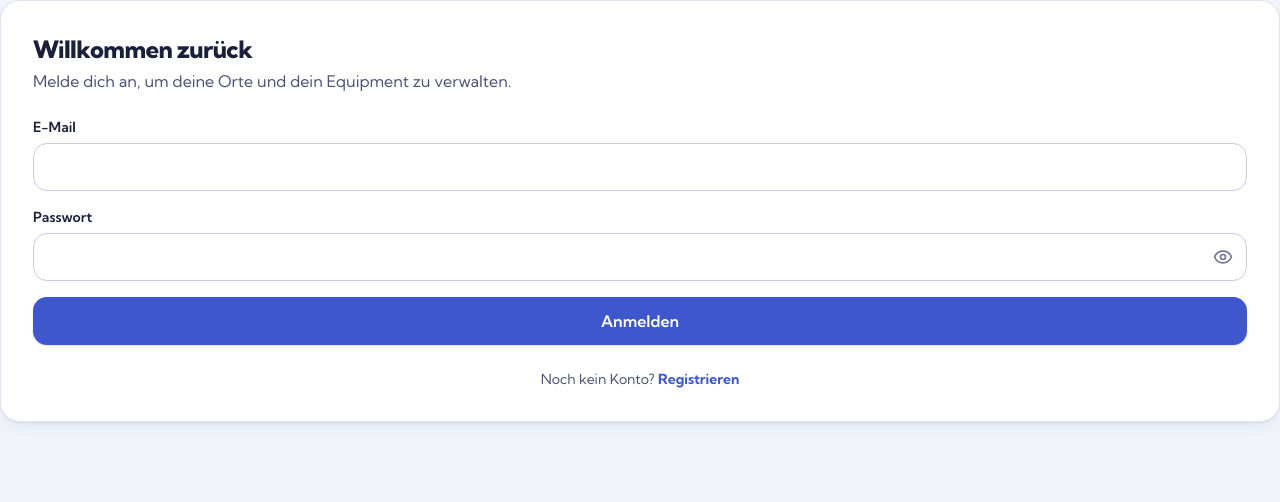
Test: AuthForm (login) › explains rate limiting
In the field labelled "E-Mail": (640, 167) [33, 143, 1247, 191], type "a@b.de"
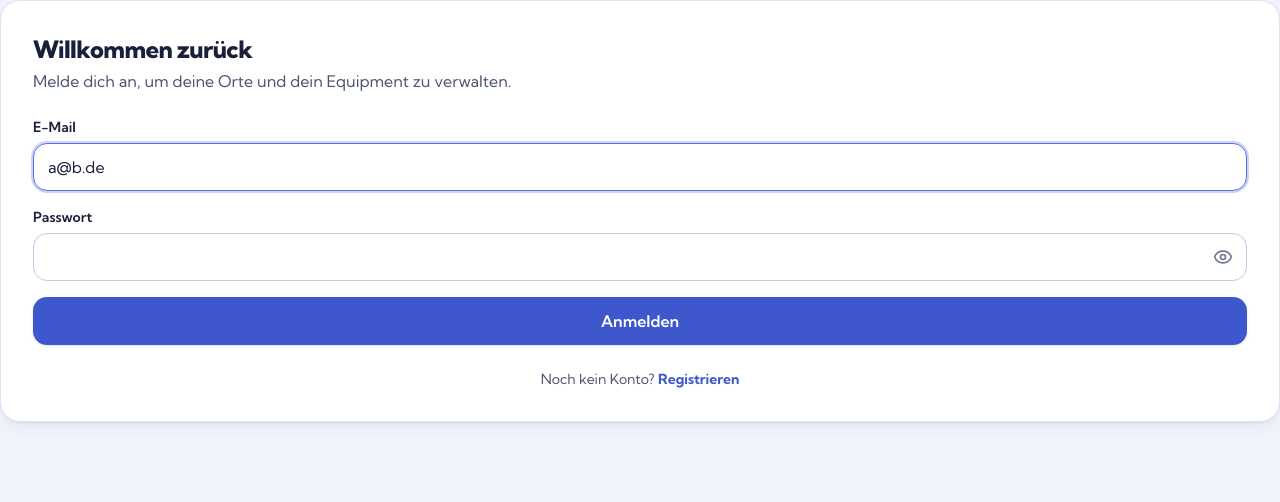
In the password field labelled "Passwort": (640, 257) [33, 233, 1247, 281], type "x"
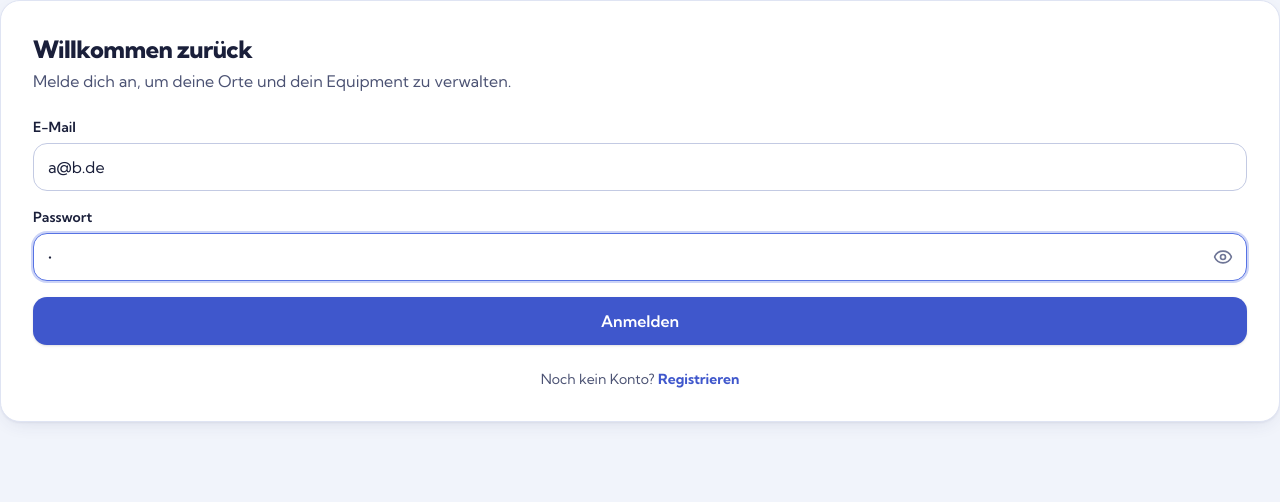
Click the button "Anmelden": click(640, 321) [33, 297, 1247, 345]
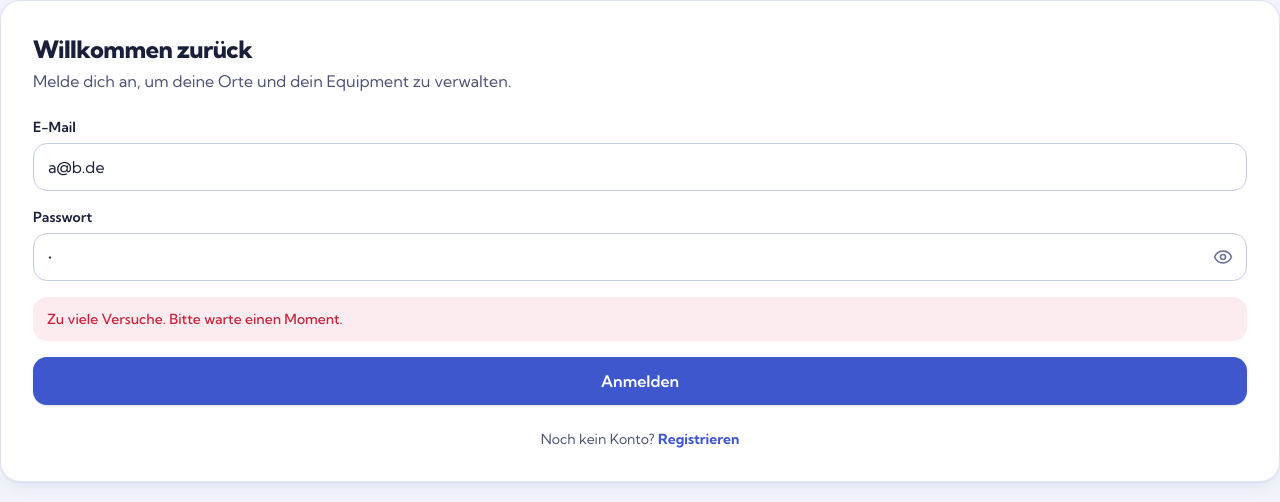
Check: the message shows "Zu viele Versuche", box [47, 310, 343, 328]
